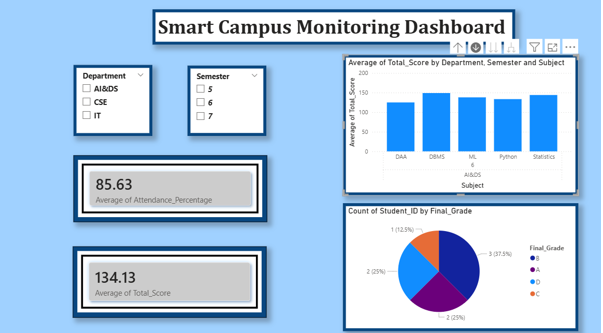

Layout of this report page (visuals, bound fields, positions):
{"tool":"powerbi","page":{"name":"Page 1","canvas":[1280,720],"ordinal":0},"visuals":[{"type":"textbox","box":[325.2,27.4,768.4,75.5],"z":0},{"type":"cardVisual","fields":{"Data":["Avg(5 student_performance.Attendance_Percentage)"]},"box":[157.8,337.6,410.3,141.3],"z":1000},{"type":"cardVisual","fields":{"Data":["Avg(5 student_performance.Total_Score)"]},"box":[156.4,531,410.3,150.9],"z":2000},{"type":"slicer","fields":{"Values":["5 student_performance.Department"]},"box":[157.8,145.5,167.4,150.9],"z":3000},{"type":"slicer","fields":{"Values":["5 student_performance.Semester"]},"box":[399.3,146.8,167.4,149.6],"z":4000},{"type":"clusteredColumnChart","fields":{"Y":["Avg(5 student_performance.Total_Score)"],"Category":["5 student_performance.Department","5 student_performance.Semester","5 student_performance.Subject"]},"box":[728.6,123.5,499.5,299.1],"z":5000},{"type":"pieChart","fields":{"Category":["5 student_performance.Final_Grade"],"Y":["CountNonNull(5 student_performance.Student_ID)"]},"box":[728.6,439.1,499.5,271.7],"z":6000}]}

Visuals, with their boxes in screenshot pixels (x1, y1, x2, y2), scaled from the page's 1280x720 canvas onto the 603x333 screenshot:
textbox: {"left": 153, "top": 13, "right": 515, "bottom": 48}
cardVisual - Avg(5 student_performance.Attendance_Percentage): {"left": 74, "top": 156, "right": 268, "bottom": 221}
cardVisual - Avg(5 student_performance.Total_Score): {"left": 74, "top": 246, "right": 267, "bottom": 315}
slicer - 5 student_performance.Department: {"left": 74, "top": 67, "right": 153, "bottom": 137}
slicer - 5 student_performance.Semester: {"left": 188, "top": 68, "right": 267, "bottom": 137}
clusteredColumnChart - Avg(5 student_performance.Total_Score) x 5 student_performance.Department: {"left": 343, "top": 57, "right": 579, "bottom": 195}
pieChart - 5 student_performance.Final_Grade x CountNonNull(5 student_performance.Student_ID): {"left": 343, "top": 203, "right": 579, "bottom": 329}
